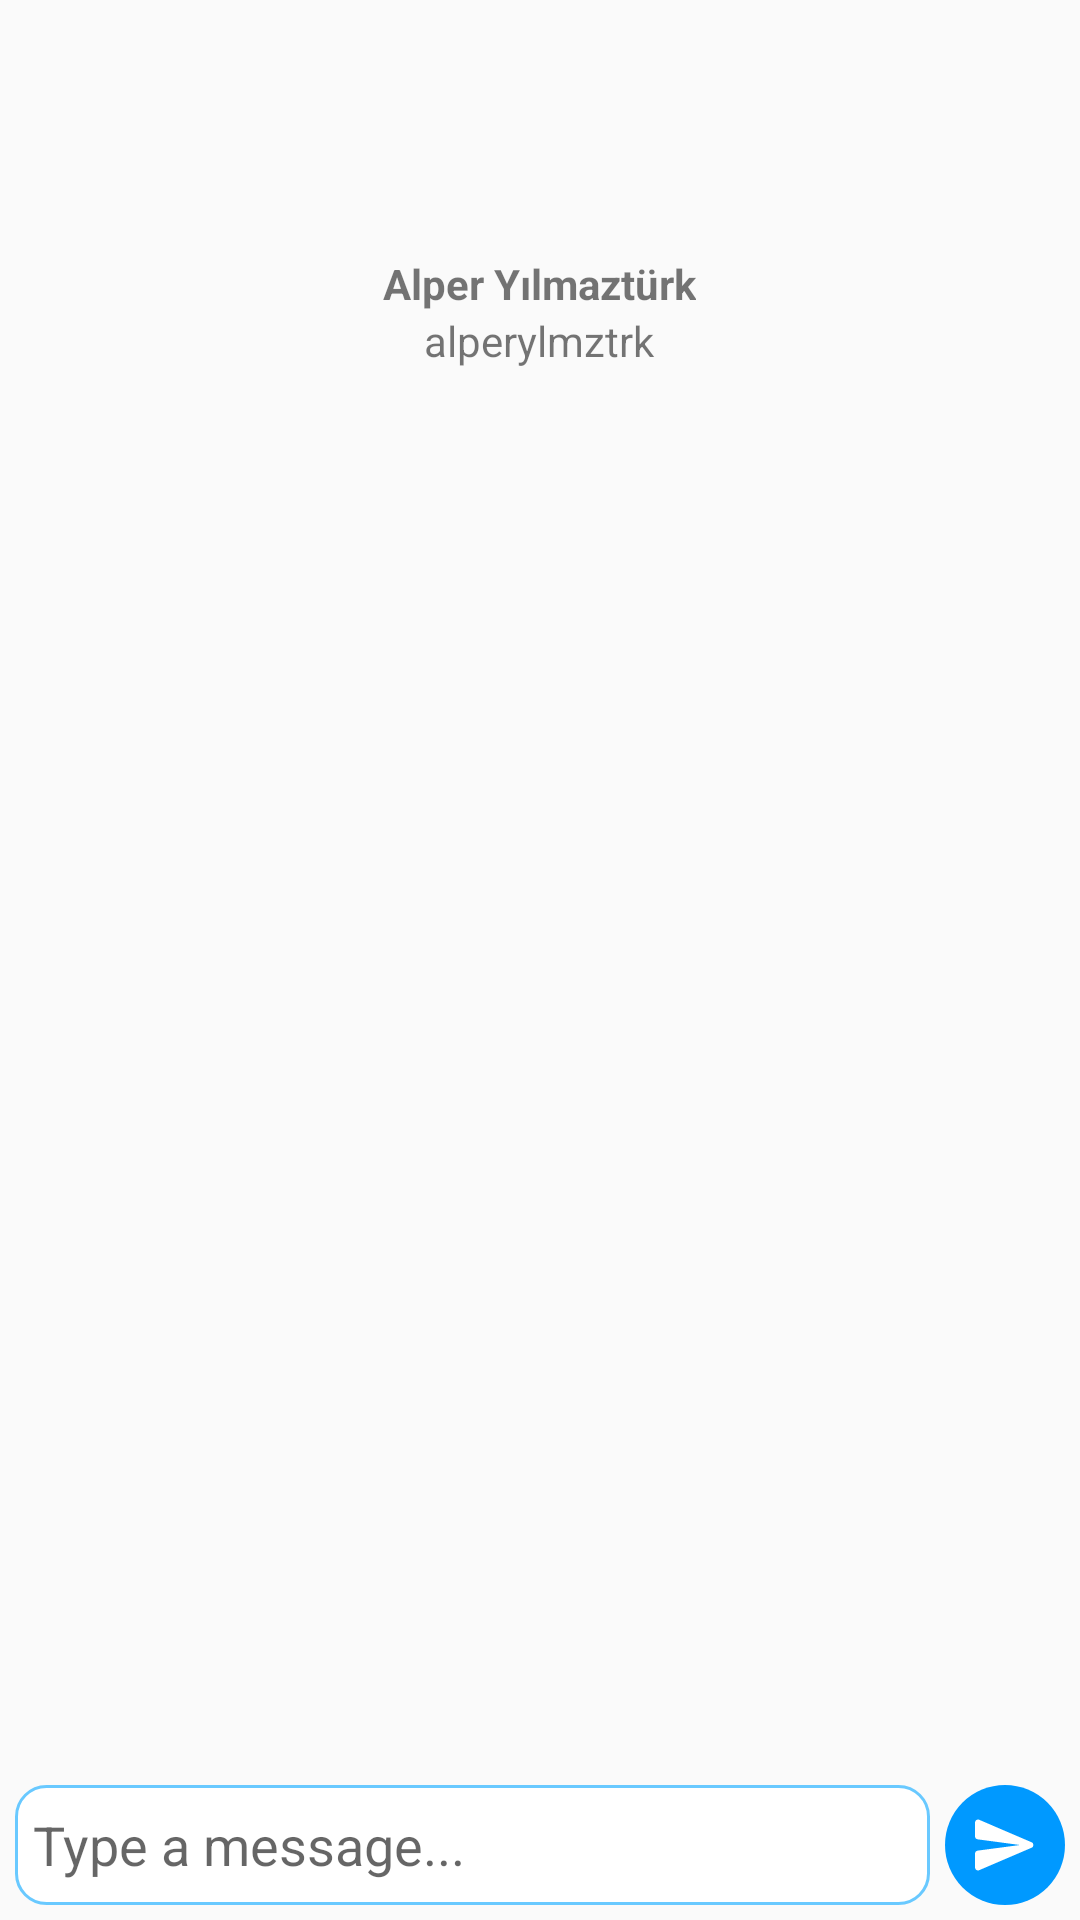

Where to tap for icons on this 1080w x 1920h app screen, as point (x, y):
send: point (1005, 1845)
